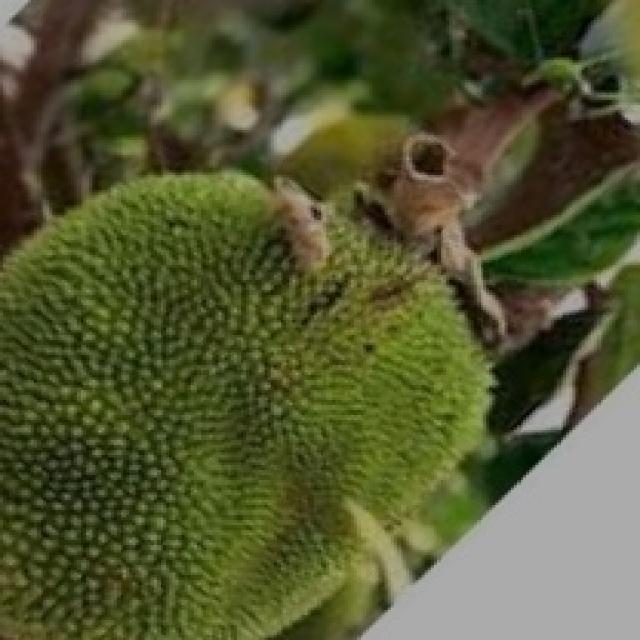Fruit: (0, 260, 382, 640)
